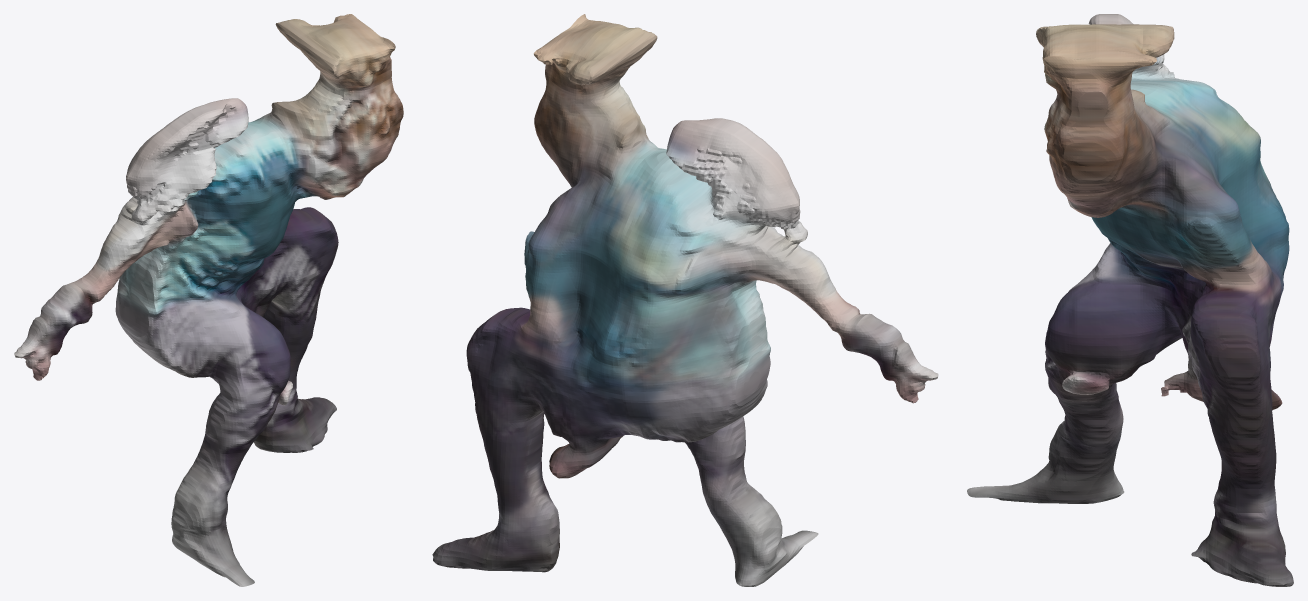
File: 0058_tex.glb
The picture shows the model from 3 angles, left to right: view 1: azimuth 30°, elevation 25°; view 2: azimuth 150°, elevation 25°; view 3: azimuth 270°, elevation 25°; orthographic projection. The views are drawn at different scales.
Parts seen in each view (by area): view 1: 0058_tex.obj; view 2: 0058_tex.obj; view 3: 0058_tex.obj.
Boxes of the visible parts, box(x1,y1,x2,y2) form: 0058_tex.obj: box(14, 14, 403, 586); 0058_tex.obj: box(432, 14, 938, 586); 0058_tex.obj: box(967, 14, 1293, 586).
Bounding box in the file's own units: 0.7431 × 0.8613 × 0.4663.
